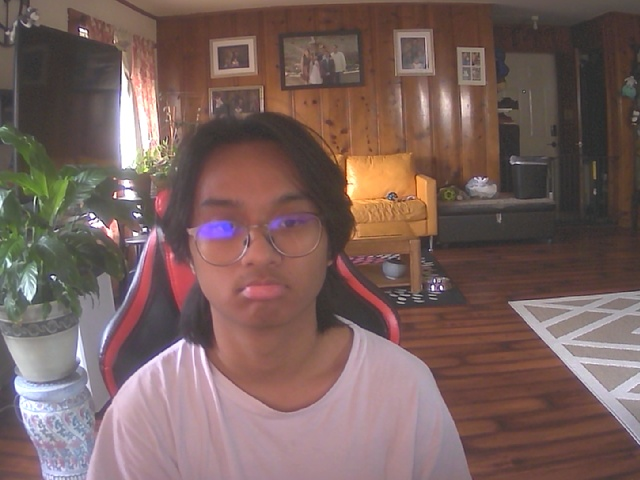sad: (182, 122, 339, 329)
